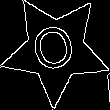O_S: (29, 19, 82, 81)
